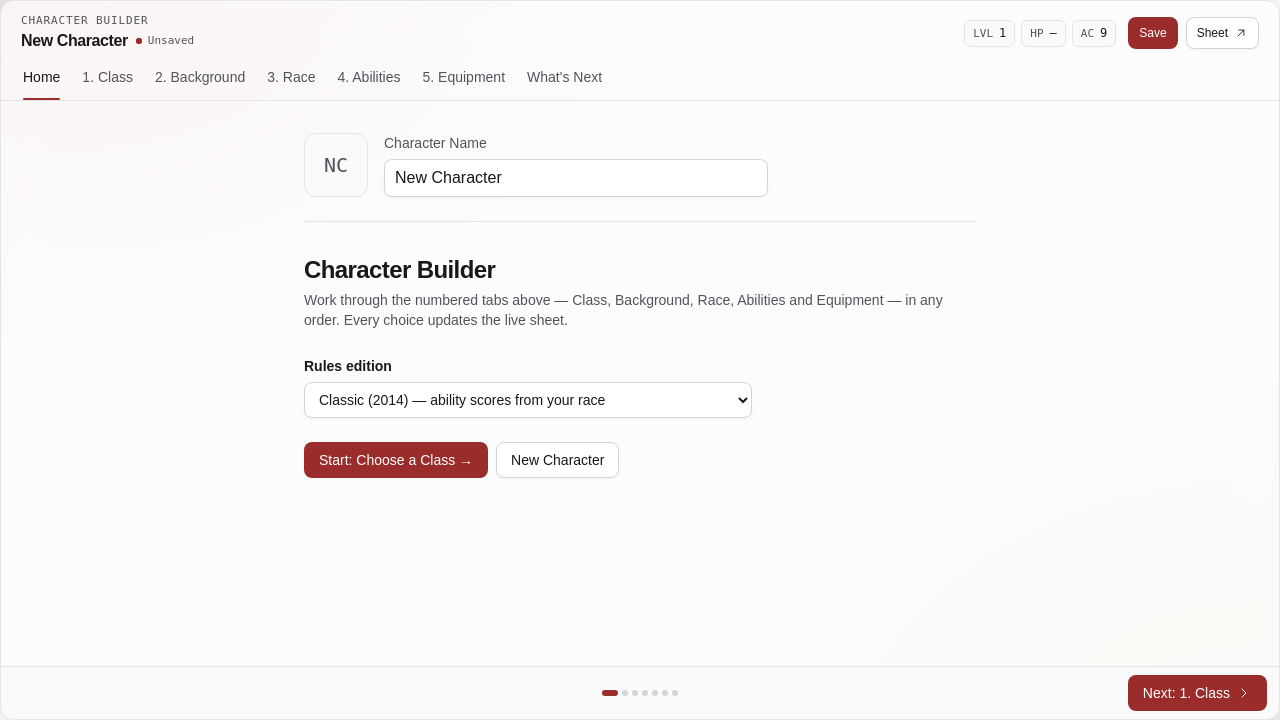
Test case: BuildView (DDB-style pages) › walks the class page: pick a class, see feature accordions and spells tab
This screenshot has width=1280, height=720.
Click the button "1. Class": (108, 80) [72, 59, 143, 100]
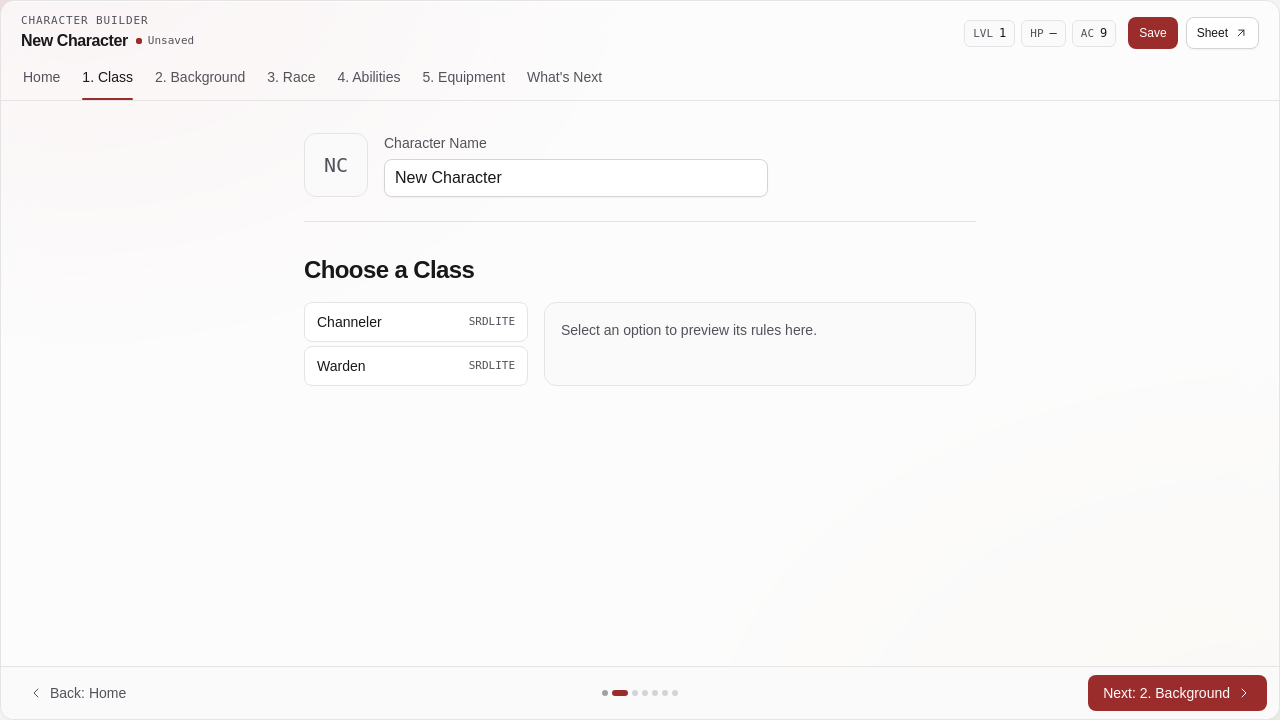
Check: the heading "Choose a Class" is shown, box [304, 256, 474, 283]
Click the text "Channeler": (349, 322) [317, 312, 382, 332]
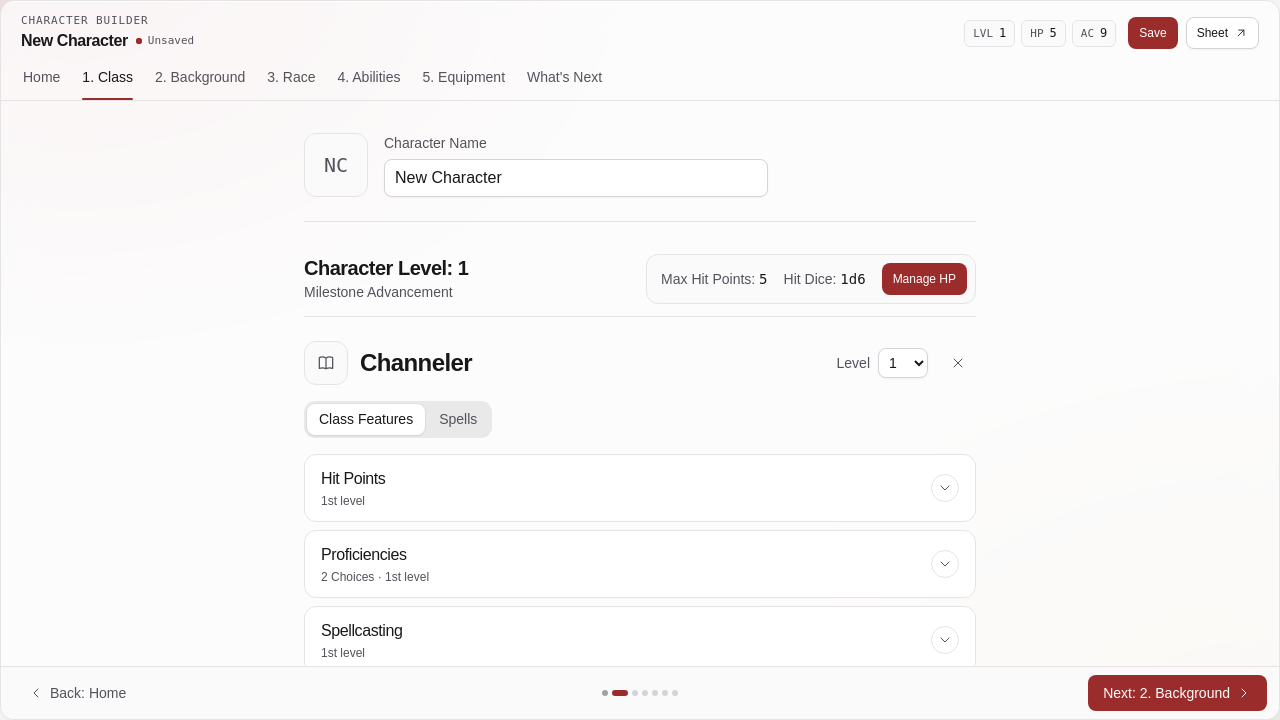
Check: the heading "Character Level: 1" is shown, box [304, 254, 468, 282]
Check: the text "Hit Points" is shown, box [321, 470, 386, 487]
Check: the text "Proficiencies" is shown, box [321, 546, 406, 563]
Click the button "Spells": (458, 420) [427, 404, 489, 435]
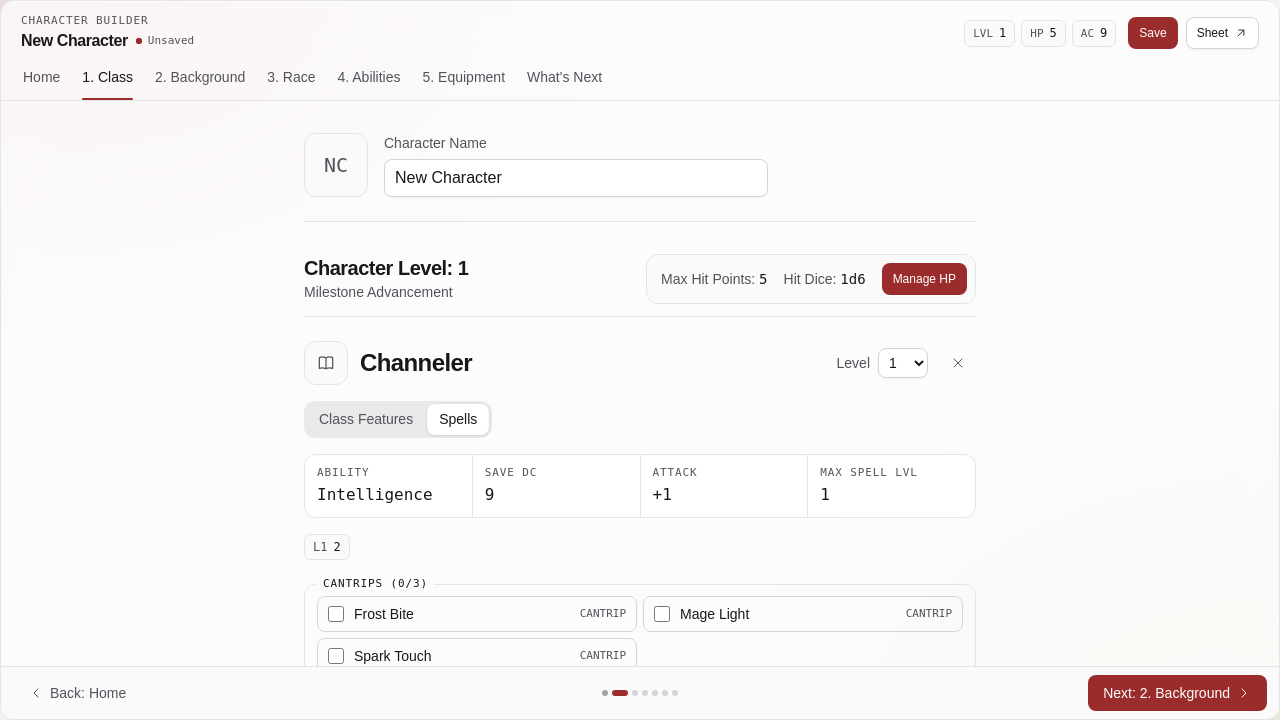
Check: the text "Cantrips (0/3)" is shown, box [317, 576, 434, 592]
